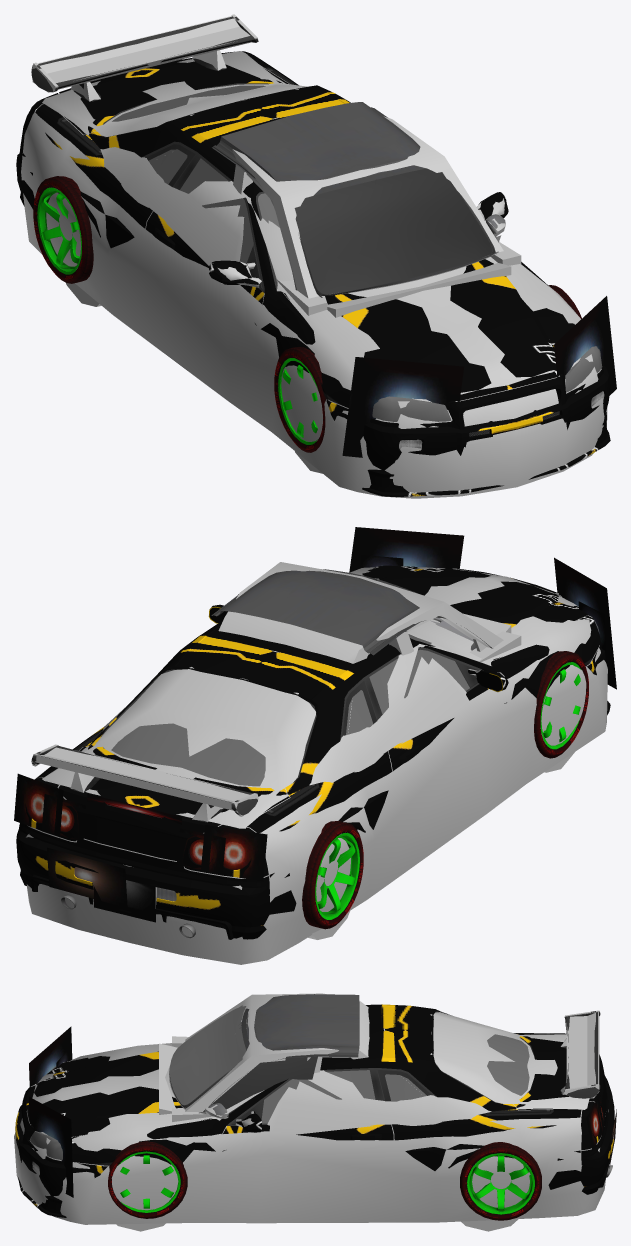
File: P_car-008_Skimal.fbx
3 renders of one model, top to bottom at view 1: azimuth 30°, elevation 25°; view 2: azimuth 150°, elevation 25°; view 3: azimuth 270°, elevation 25°, orthographic. The views are drawn at different scales.
Visible parts, largest first — view 1: M_Car-008_ShadowForm_Skimal_01, M_Car-008_Body_Skimal_01, M_Car-Interior_Glass_01, M_Car-Interior_Details_01, M_Car-Interior_Shadowform_01, M_Car-008_FrontFlares_Skimal_01, M_Car-008_Glass_Skimal_01, M_Car-008_Details_Skimal_01, M_CarWheel-002_L_AP_01 (×2), M_CarTire-002_L_AP_01, M_CarTire-002_L_AP; view 2: M_Car-008_ShadowForm_Skimal_01, M_Car-008_Body_Skimal_01, M_Car-Interior_Details_01, M_Car-008_Glass_Skimal_01, M_Car-Interior_Shadowform_01, M_Car-008_BackFlares_Skimal_01, M_Car-008_FrontFlares_Skimal_01, M_CarWheel-002_L_AP_01 (×2), M_Car-008_Details_Skimal_01, M_Car-008_BackLights_Skimal_01, M_Car-008_BackFlaresBrake_Skimal_01, M_CarTire-002_L_AP (+1 smaller); view 3: M_Car-008_ShadowForm_Skimal_01, M_Car-008_Body_Skimal_01, M_Car-Interior_Glass_01, M_Car-Interior_Details_01, M_Car-Interior_Shadowform_01, M_Car-008_Glass_Skimal_01, M_CarWheel-002_L_AP_01 (×2), M_Car-008_FrontFlares_Skimal_01, M_Car-008_Details_Skimal_01, M_CarTire-002_L_AP (×2), M_CarTire-002_L_AP_01, M_Car-008_BackFlares_Skimal_01.
Boxes of the visible parts, x1,y1,x2,y2 form: M_Car-008_ShadowForm_Skimal_01: (21,14,607,498); M_Car-008_Body_Skimal_01: (16,51,610,497); M_Car-Interior_Glass_01: (294,168,491,294); M_Car-Interior_Details_01: (212,102,505,297); M_Car-Interior_Shadowform_01: (232,116,521,317); M_Car-008_FrontFlares_Skimal_01: (342,296,616,457); M_Car-008_Glass_Skimal_01: (112,85,602,421); M_Car-008_Details_Skimal_01: (31,16,604,448); M_CarWheel-002_L_AP_01 (×2): (33,176,326,452); M_CarTire-002_L_AP_01: (37,187,70,257); M_CarTire-002_L_AP: (49,205,81,274); M_Car-008_ShadowForm_Skimal_01: (26,567,607,964); M_Car-008_Body_Skimal_01: (16,565,610,939); M_Car-Interior_Details_01: (211,569,492,655); M_Car-008_Glass_Skimal_01: (111,620,599,786); M_Car-Interior_Shadowform_01: (218,562,521,663); M_Car-008_BackFlares_Skimal_01: (15,775,265,922); M_Car-008_FrontFlares_Skimal_01: (349,527,616,689); M_CarWheel-002_L_AP_01 (×2): (302,651,588,929); M_Car-008_Details_Skimal_01: (31,638,592,938); M_Car-008_BackLights_Skimal_01: (47,847,127,907); M_Car-008_BackFlaresBrake_Skimal_01: (14,773,267,881); M_CarTire-002_L_AP: (322,833,359,919); M_Car-008_ShadowForm_Skimal_01: (14,1010,608,1231); M_Car-008_Body_Skimal_01: (15,1004,614,1217); M_Car-Interior_Glass_01: (169,1005,318,1111); M_Car-Interior_Details_01: (169,994,359,1118); M_Car-Interior_Shadowform_01: (159,993,369,1121); M_Car-008_Glass_Skimal_01: (30,1034,529,1159); M_CarWheel-002_L_AP_01 (×2): (108,1141,541,1220); M_Car-008_FrontFlares_Skimal_01: (29,1026,73,1197); M_Car-008_Details_Skimal_01: (32,1011,612,1177); M_CarTire-002_L_AP (×2): (130,1155,534,1214); M_CarTire-002_L_AP_01: (467,1153,517,1209); M_Car-008_BackFlares_Skimal_01: (586,1094,605,1136).
Size of what is drawn, in the model's own units: 2 by 1.42 by 4.63.
